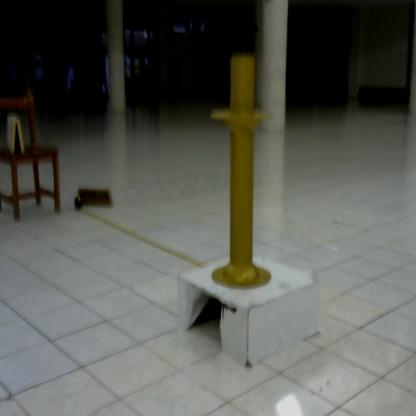pole: (207, 48, 280, 294)
